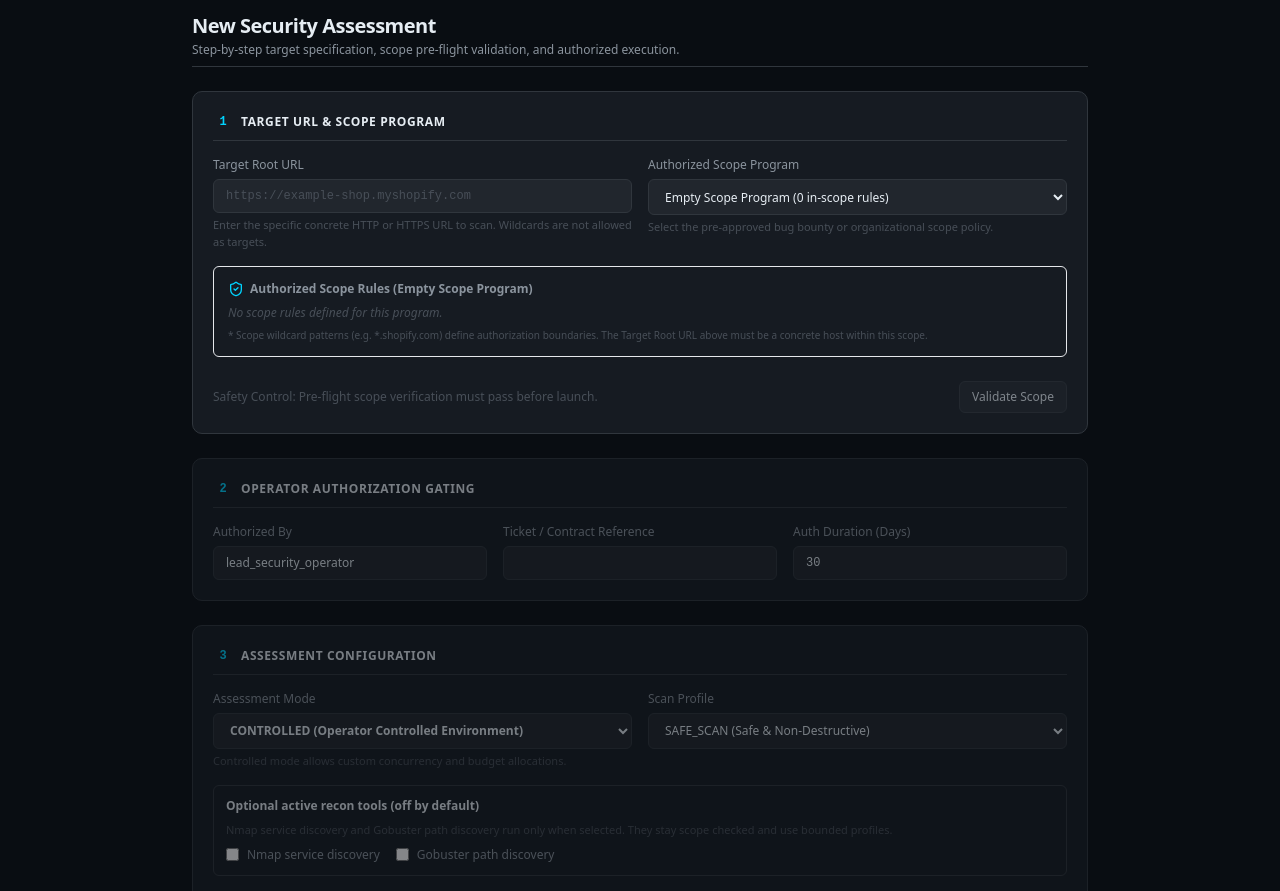
it: NewAssessment Crash Investigation & Resilience Suite › 6. Missing scope rule data does not crash
Expected: the text "No scope rules defined for this program." is shown, left=228, top=305, right=443, bottom=321
// Switch to program with structured object scope assets
Select "Object Scope Program (1 in-scope rules)" in the dropdown labelled "Authorized Scope Program" at (858, 197), box left=648, top=179, right=1067, bottom=215
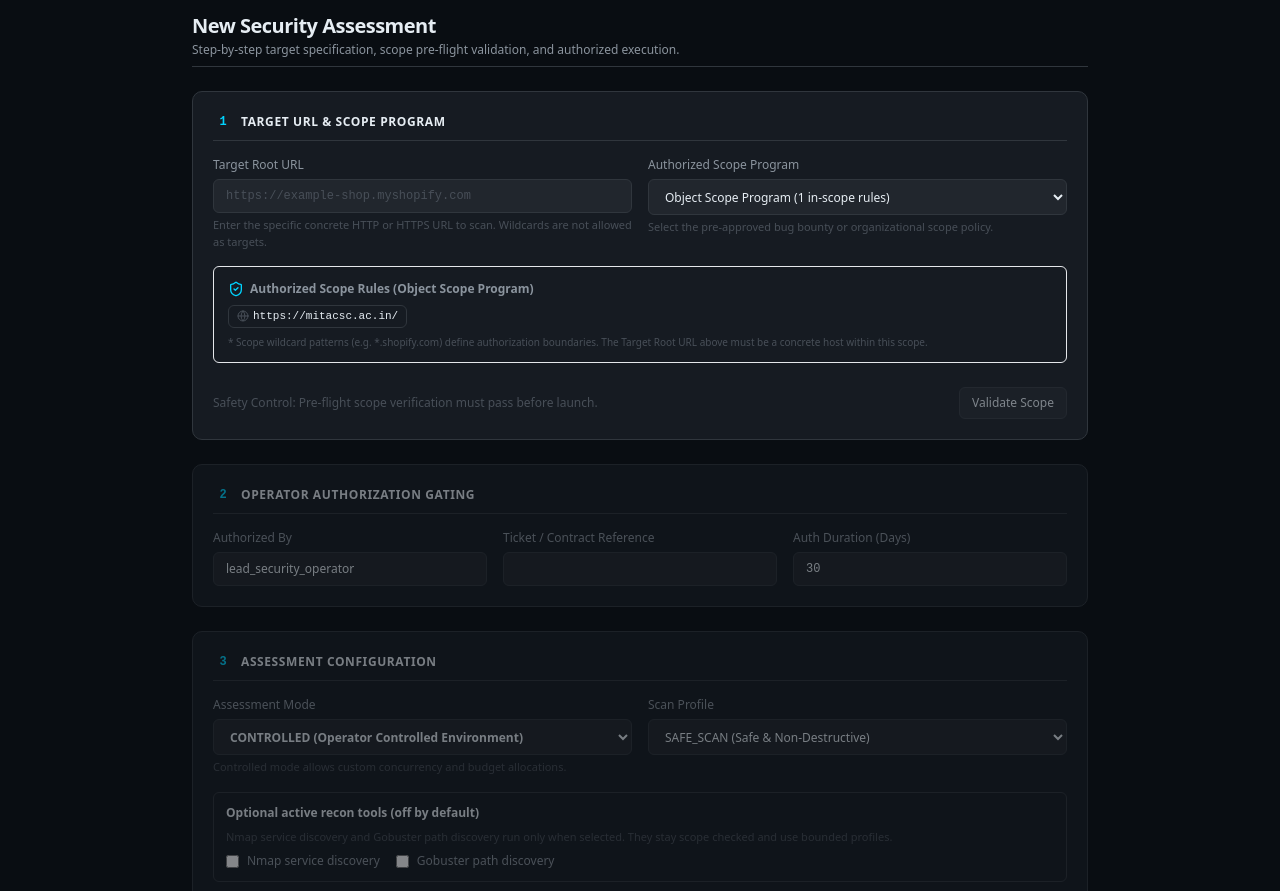
Expected: the text "https://mitacsc.ac.in/" is shown, left=253, top=308, right=398, bottom=324
